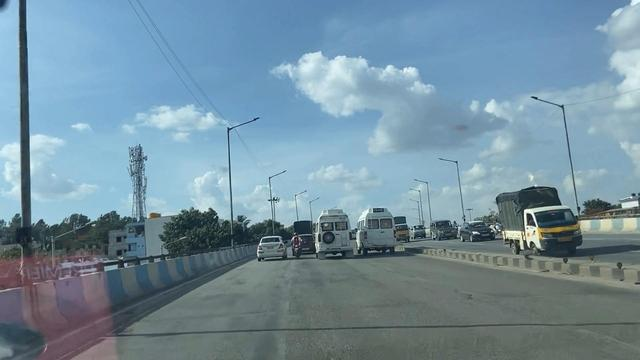HMV: (351, 204, 396, 246), (315, 209, 352, 255)
LMV: (253, 229, 287, 263), (289, 231, 300, 251)
RoadDamages: (273, 285, 374, 360), (438, 269, 482, 312)
